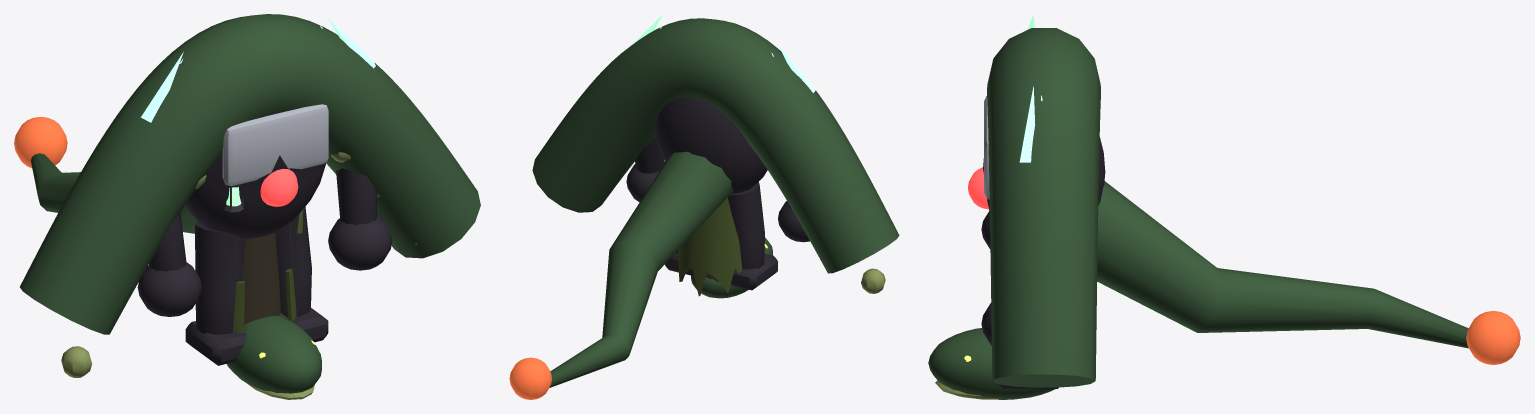
The model's file is magnus.glb.
3 renders of one model, left to right at view 1: azimuth 30°, elevation 25°; view 2: azimuth 150°, elevation 25°; view 3: azimuth 270°, elevation 25°, orthographic. The views are drawn at different scales.
Parts seen in each view (by area): view 1: hyd_body, gol_body, hyd_head, mag_body; view 2: hyd_body, gol_body, mag_body, hyd_head; view 3: hyd_body, hyd_head, gol_body.
Part boxes in pixels (left/top/right/bottom): hyd_body: left=14, top=14, right=480, bottom=377; gol_body: left=137, top=17, right=392, bottom=365; hyd_head: left=227, top=313, right=321, bottom=399; mag_body: left=223, top=184, right=304, bottom=332; hyd_body: left=509, top=18, right=899, bottom=399; gol_body: left=626, top=15, right=815, bottom=290; mag_body: left=677, top=198, right=742, bottom=296; hyd_head: left=691, top=237, right=772, bottom=298; hyd_body: left=987, top=28, right=1520, bottom=387; hyd_head: left=928, top=328, right=1055, bottom=399; gol_body: left=968, top=15, right=1105, bottom=388.
Bounding box in the file's own units: 3.82 × 2.87 × 4.35.
